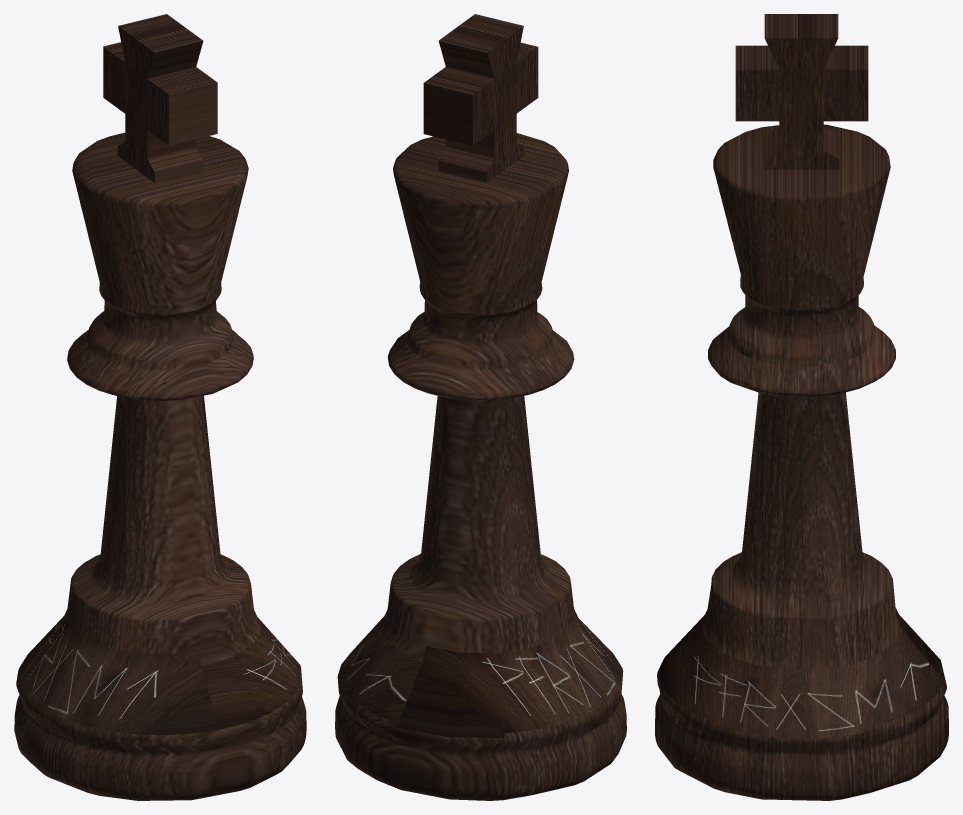
File: Rey2.fbx
The picture shows the model from 3 angles, left to right: view 1: azimuth 30°, elevation 25°; view 2: azimuth 150°, elevation 25°; view 3: azimuth 270°, elevation 25°; orthographic projection.
Parts seen in each view (by area): view 1: Vert.008; view 2: Vert.008; view 3: Vert.008.
Boxes of the visible parts, bbox=[...] form: Vert.008: bbox=[14, 14, 306, 800]; Vert.008: bbox=[335, 14, 626, 800]; Vert.008: bbox=[655, 14, 948, 800].
Bounding box in the file's own units: 39.47 × 107 × 39.47.
2 materials, 2 textured.
